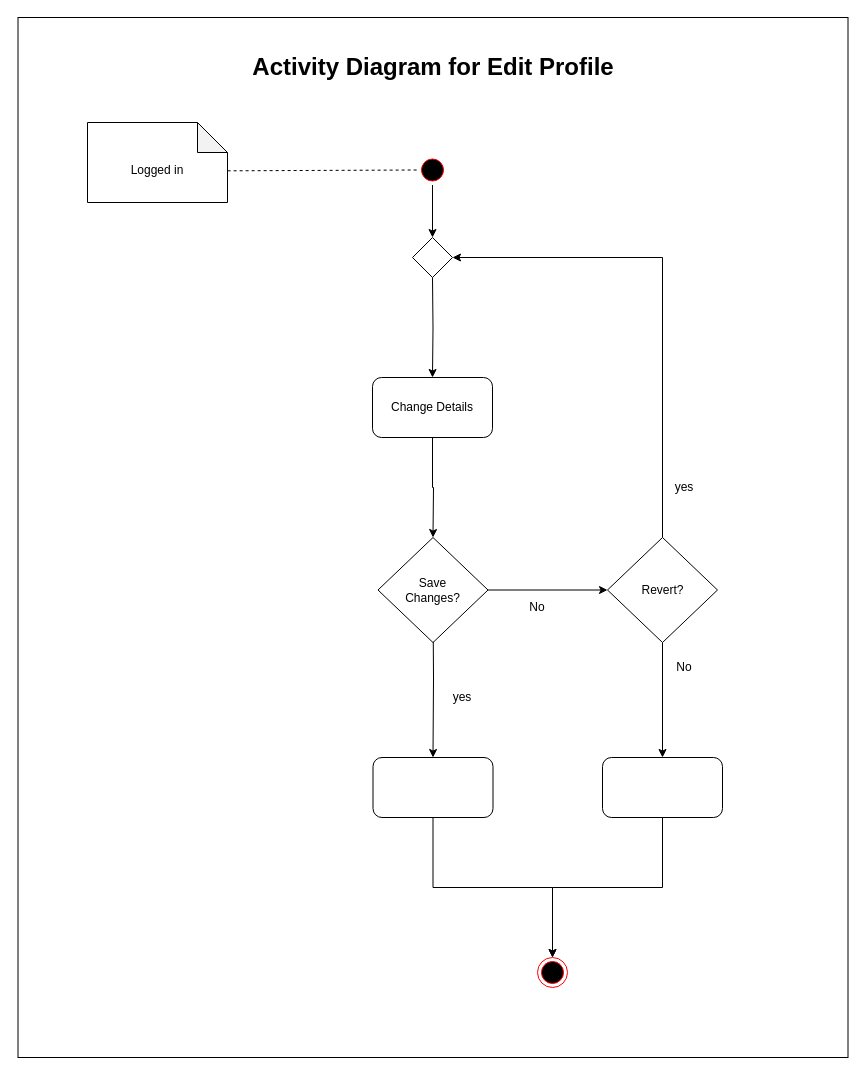
Some shapes in this 865 by 1075 pixel diagram are drawn without their labels. The box of each missing label's shape, as (x1, y1, x2, y2) in pixels:
Go to Home Page: (602, 756, 722, 818)
Update Content: (372, 756, 493, 818)
